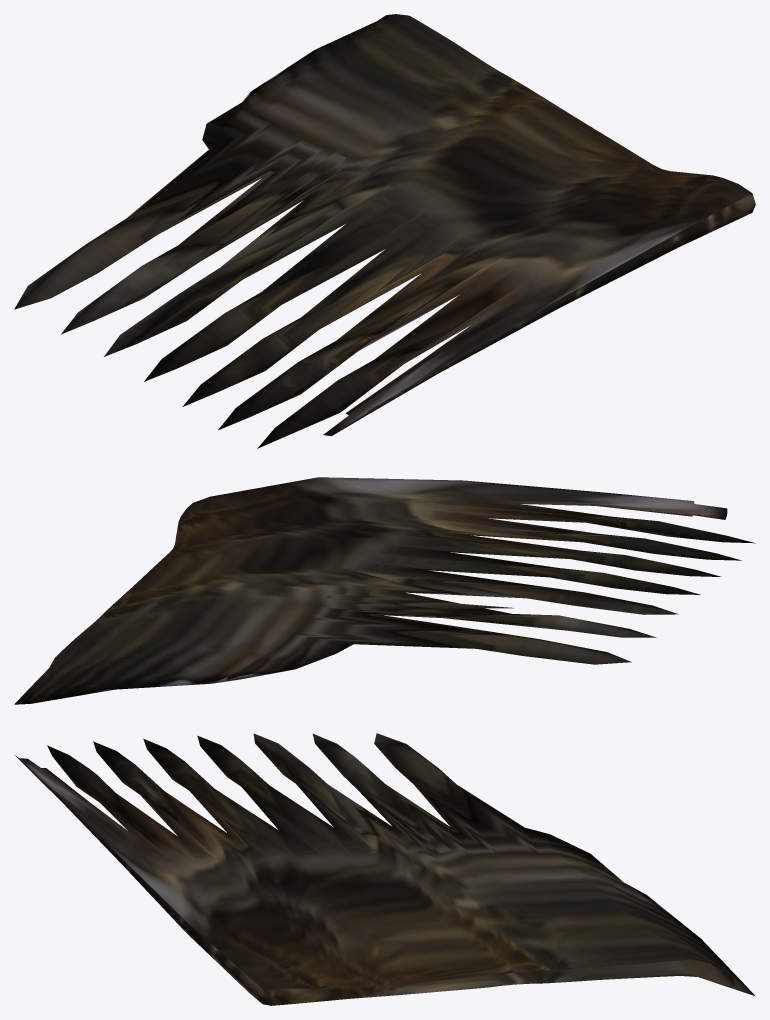
File: right_wing_far.obj
The picture shows the model from 3 angles, top to bottom: view 1: azimuth 30°, elevation 25°; view 2: azimuth 150°, elevation 25°; view 3: azimuth 270°, elevation 25°; orthographic projection. The views are drawn at different scales.
Visible parts, largest first — view 1: left-wings-outer_Plane.006; view 2: left-wings-outer_Plane.006; view 3: left-wings-outer_Plane.006.
Boxes of the visible parts, <box> form: left-wings-outer_Plane.006: <box>14,14,755,448</box>; left-wings-outer_Plane.006: <box>14,477,755,704</box>; left-wings-outer_Plane.006: <box>15,733,755,1005</box>.
Size of the model in its own units: 3.79 by 0.3707 by 4.55.
